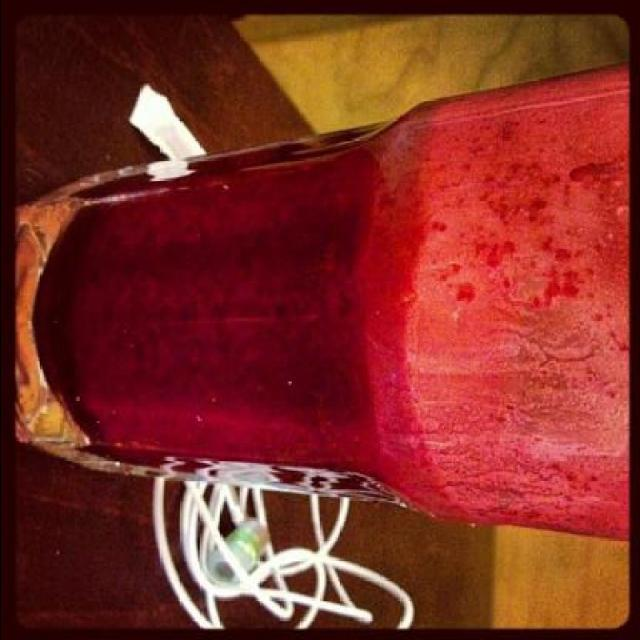Juice: (0, 99, 598, 536)
